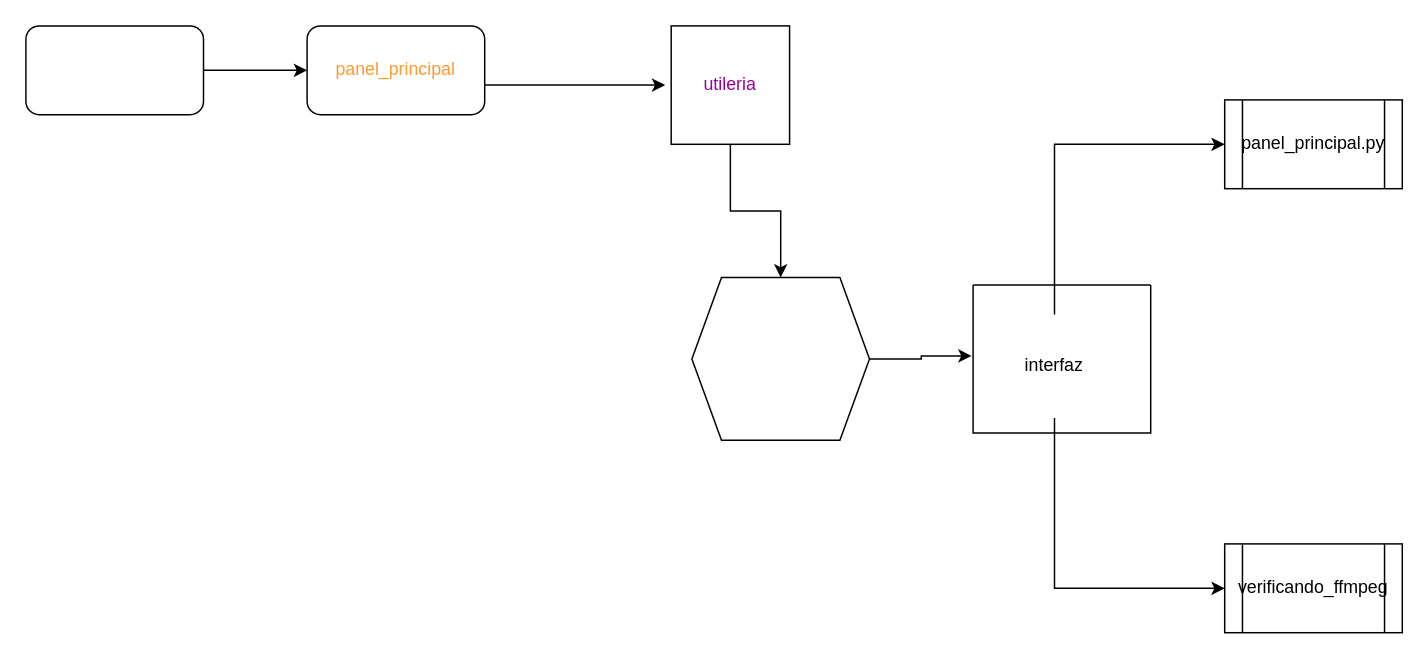
This 1428x659 diagram has some shape labels left out. Each missing label, with the box of its shape:
herramienta_1.py comprobar ffmpeg: (690, 276, 870, 440)
main.py: (24, 24, 204, 115)
